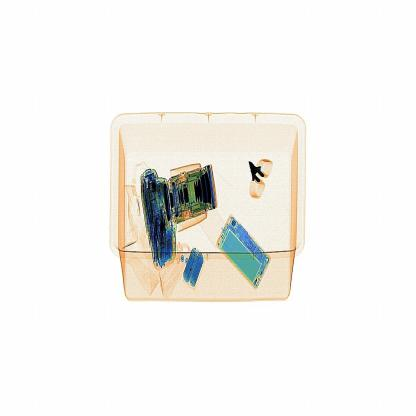gun: (246, 142, 281, 206)
